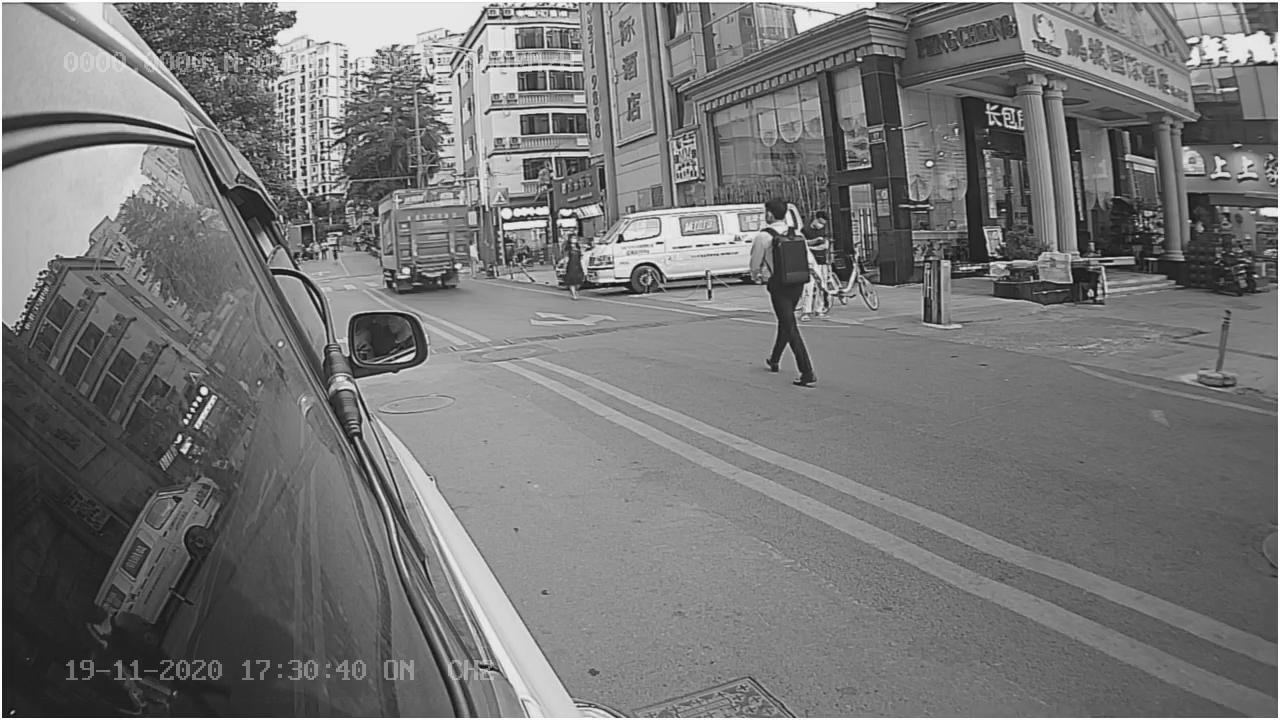person: (745, 194, 817, 390)
